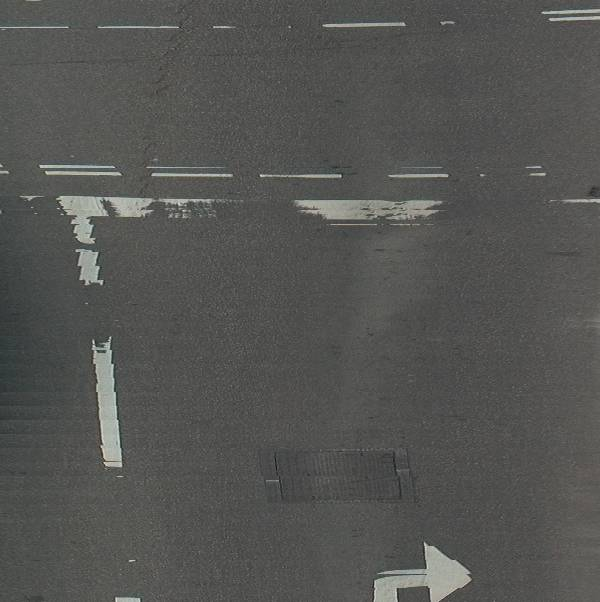road_damage: (146, 2, 192, 187)
